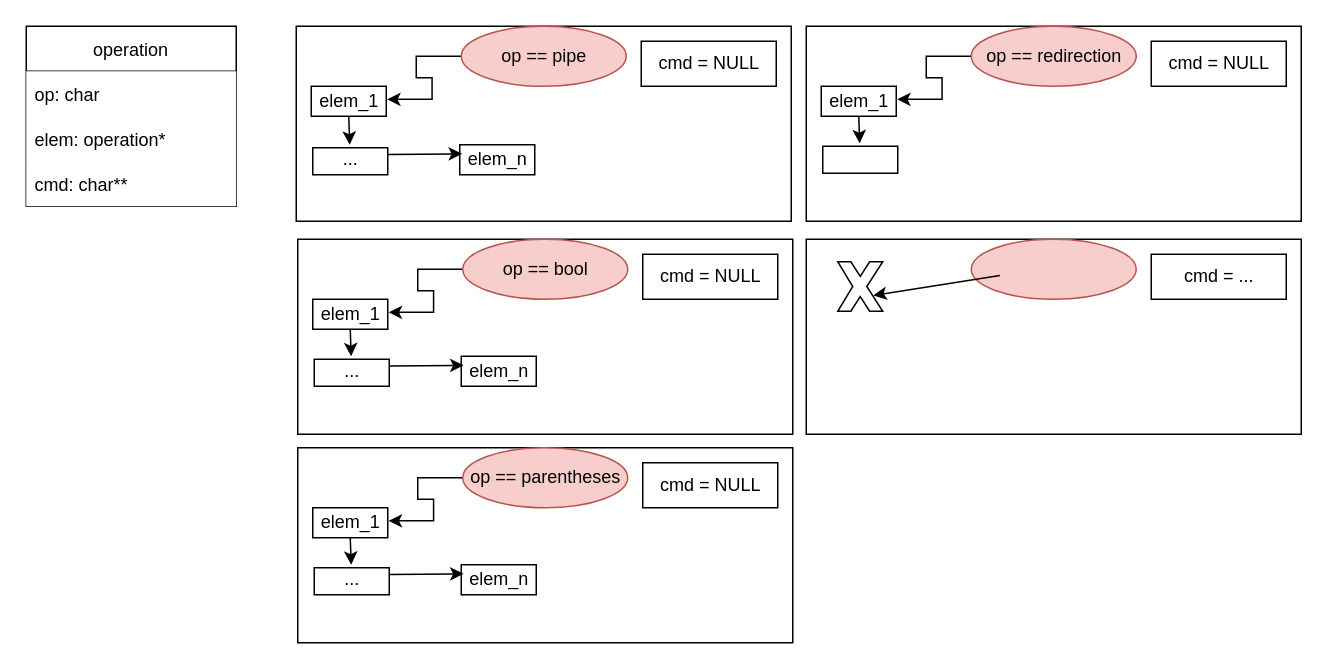
This 1328x669 diagram has some shape labels left out. Here are the shapes that lost their labels. From the top down, the centre of each, then its label:
At point 859,159: "elem_2".
At point 1053,268: "op == cmd".
